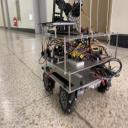cart: (36, 32, 119, 116)
